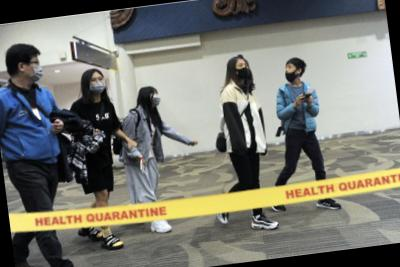mask_weared_incorrect: (284, 63, 299, 83)
with_mask: (22, 55, 44, 84), (88, 74, 108, 96), (234, 61, 252, 82), (150, 90, 163, 110)
